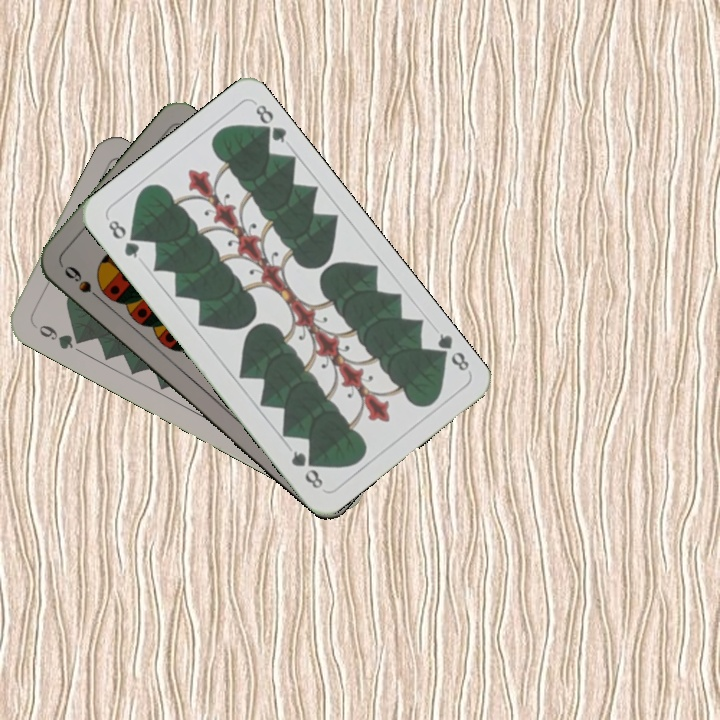G8: (429, 329, 472, 374), (103, 214, 143, 261)
G9: (28, 319, 87, 352)
S9: (59, 261, 107, 306)
